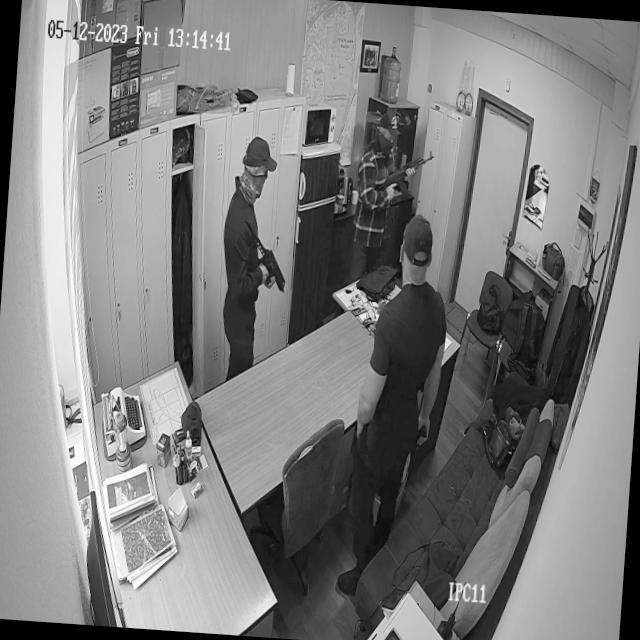gun: (242, 222, 292, 296), (382, 150, 436, 193)
person: (354, 208, 450, 540)
person with a gun: (214, 126, 278, 372), (351, 106, 401, 284)
